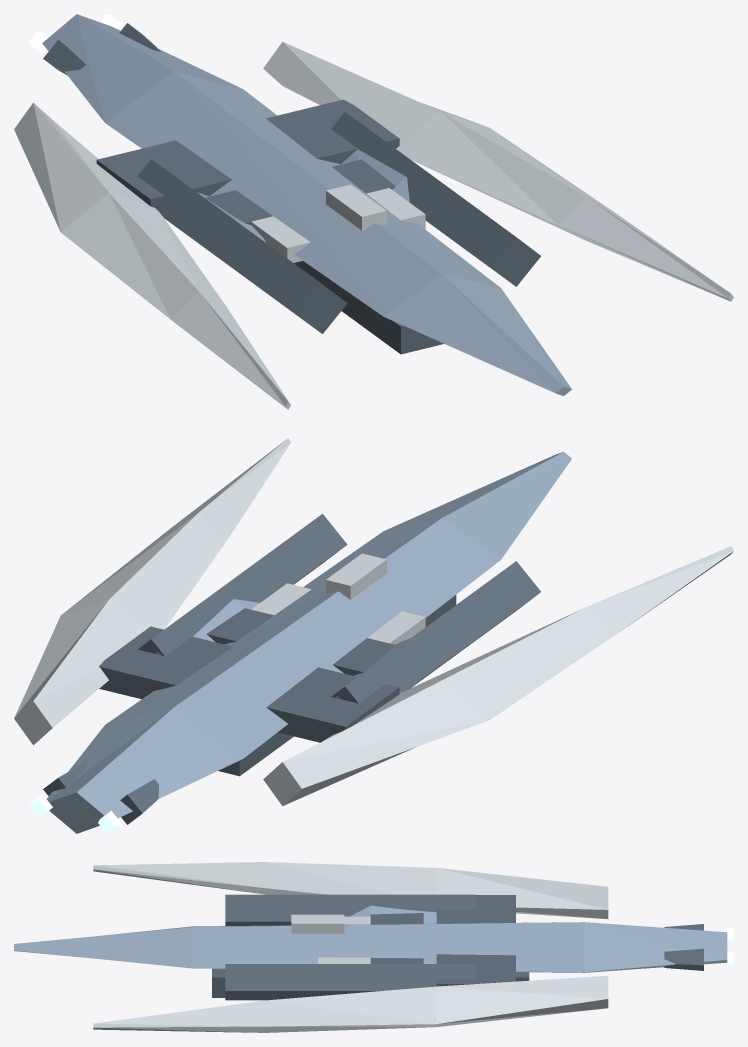
3 views of the same model, one above another, from view 1: azimuth 30°, elevation 25°; view 2: azimuth 150°, elevation 25°; view 3: azimuth 270°, elevation 25° (orthographic). The views are drawn at different scales.
Size of the model in its own units: 6.03 by 1.21 by 11.45.
